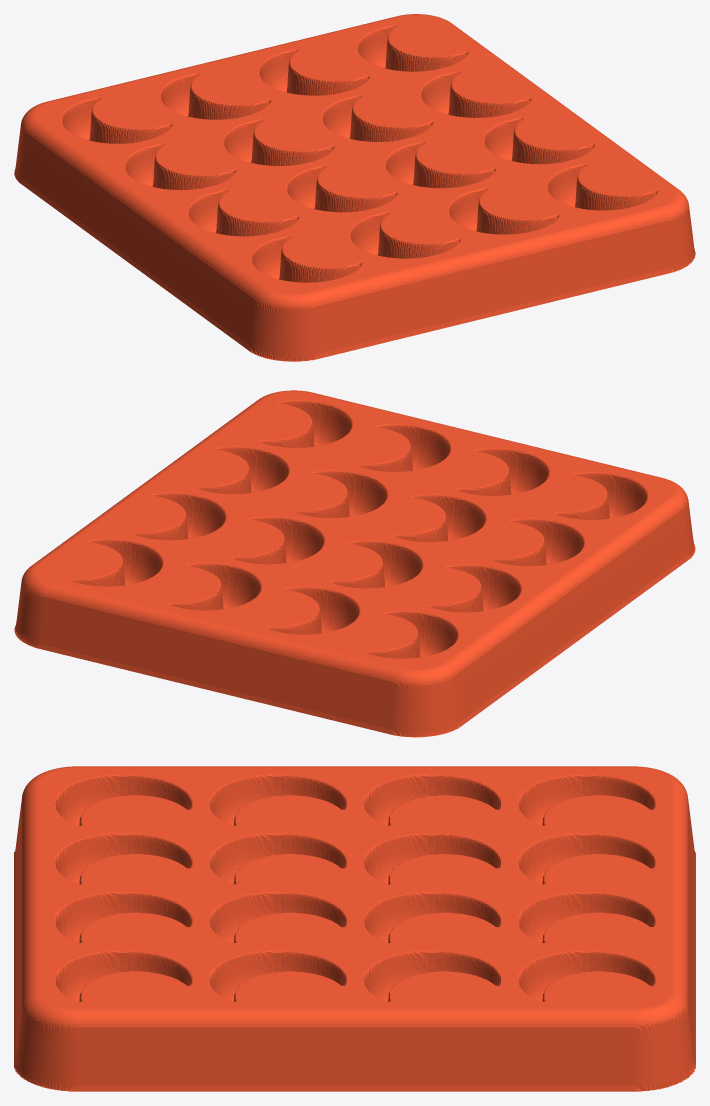
Rendered from mold.glb.
3 renders of one model, top to bottom at view 1: azimuth 30°, elevation 25°; view 2: azimuth 150°, elevation 25°; view 3: azimuth 270°, elevation 25°, orthographic. The views are drawn at different scales.
Parts seen in each view (by area): view 1: geometry_0; view 2: geometry_0; view 3: geometry_0.
Part boxes in pixels (box(x1,y1,x2,y2)): geometry_0: box(14, 14, 695, 361); geometry_0: box(14, 390, 695, 737); geometry_0: box(14, 766, 695, 1091).
Size of the model in its own units: 0.0884 by 0.0114 by 0.0972.
